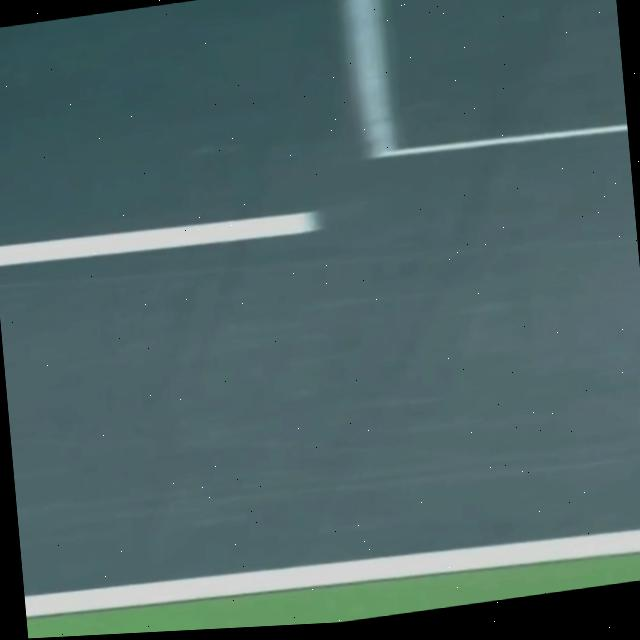center: (0, 211, 319, 266)
right: (23, 528, 640, 616)
